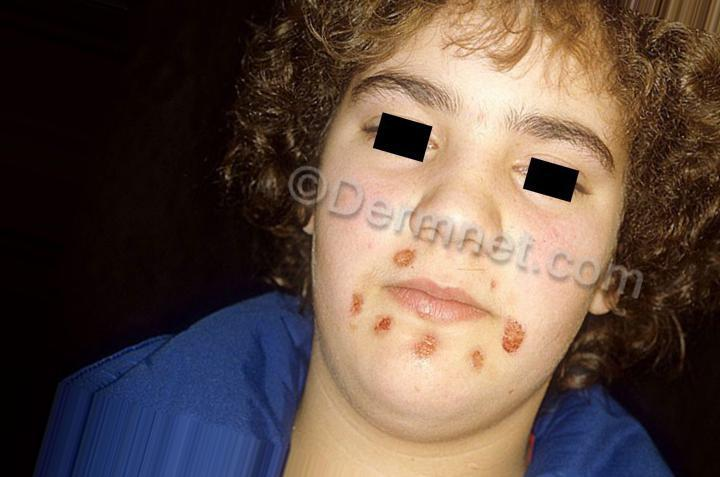Acne: (452, 338, 488, 390), (403, 333, 441, 369), (333, 290, 366, 319), (501, 323, 530, 356), (386, 246, 421, 273), (358, 314, 394, 338), (488, 274, 505, 303)
